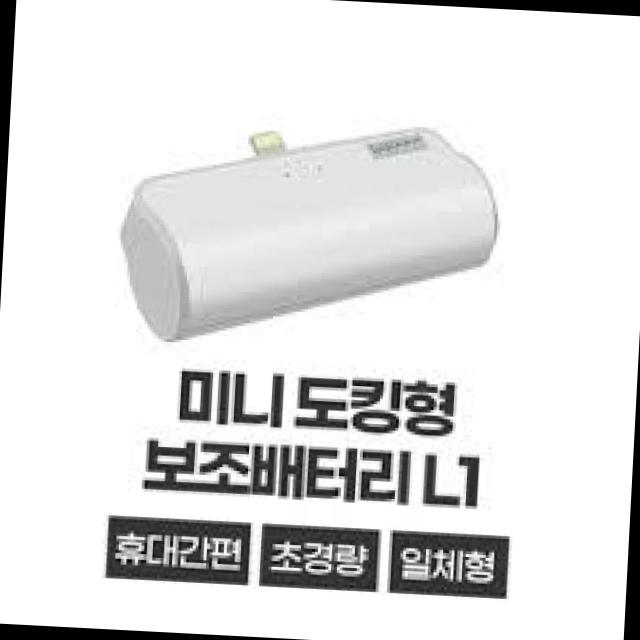power_bank: (116, 106, 506, 360)
